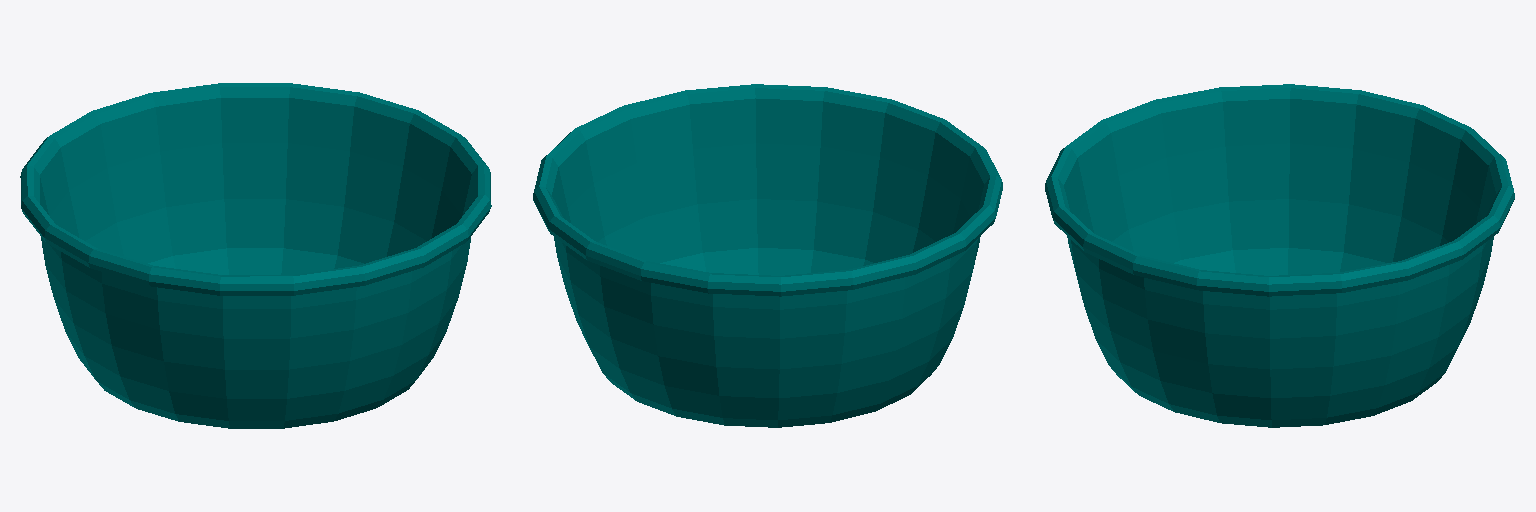
URDF robot description (bowl.urdf):
<?xml version="0.0" ?>
<robot name="bowl.urdf">

  <material name="yellow">
    <color rgba="1 1 0.4 1"/>
  </material>
  <material name="teal">
    <color rgba="0 .5 .5 1"/>
  </material>

  <link name="world"/>

  <link name="base">
    <contact>
      <lateral_friction value="1.0"/>
      <rolling_friction value="0.0"/>
      <contact_cfm value="0.0"/>
      <contact_erp value="1.0"/>
    </contact>
    <inertial>
      <origin rpy="0 0 0" xyz="0.0 0.0 0.0"/>
       <mass value=".1"/>
       <inertia ixx="1" ixy="0" ixz="0" iyy="1" iyz="0" izz="1"/>
    </inertial>
    <visual>
      <origin rpy="0 0 0" xyz="0 0 0"/>
      <geometry>
        <!-- <box size="1 1 1"/> -->
        <mesh filename="roboverse/envs/assets/objects/bowl/base.dae" scale=".7 .7 .7"/>
      </geometry>
       <material name="teal"/>
    </visual>
    <collision>
      <origin rpy="0 0 0" xyz="0 0 -.3"/>
      <geometry>
	 			<box size="1.2 1.2 .1"/>
      </geometry>
    </collision>
    <collision>
      <!-- right -->
      <origin rpy="0 0 0" xyz="0 -.45 0"/>
      <geometry>
        <box size="1 .05 .6"/>
      </geometry>
    </collision>
    <collision>
      <!-- left -->
      <origin rpy="0 0 0" xyz="0 .45 0"/>
      <geometry>
        <box size="1 .05 .6"/>
      </geometry>
    </collision>
    <collision>
      <!-- front -->
      <origin rpy="0 0 0" xyz=".45 0 0"/>
      <geometry>
        <box size=".05 1 .6"/>
      </geometry>
    </collision>
    <collision>
      <!-- back -->
      <origin rpy="0 0 0" xyz="-.45 0 0"/>
      <geometry>
        <box size=".05 1 .6"/>
      </geometry>
    </collision>
  </link>

  <joint name="base_joint" type="fixed">
    <parent link="world"/>
    <child link="base"/>
  </joint>

</robot>

--- Facts derived from the render (not from the file) ---
3 views of the same robot in one strip: view 1: azimuth 30°, elevation 25°; view 2: azimuth 150°, elevation 25°; view 3: azimuth 270°, elevation 25° (orthographic).
Model bowl.urdf with 2 links and 1 joints (1 fixed), rooted at world, posed all joints at 0.
Links seen in each view (by area): view 1: base; view 2: base; view 3: base.
Boxes of the visible links, <box> form: base: <box>20,83,491,428</box>; base: <box>533,84,1002,427</box>; base: <box>1045,84,1514,427</box>.
Bounding box of the posed robot: 1.42 × 1.42 × 0.598 m (x, y, z).
Meshes: 1 distinct files referenced, 1 mesh visuals loaded (1 Collada DAE).